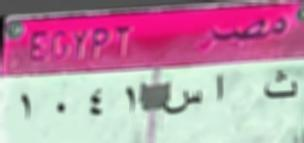0: (52, 98, 70, 118)
1: (121, 80, 139, 121), (17, 89, 35, 125)
4: (89, 86, 104, 118)
alif: (208, 71, 232, 106)
seen: (156, 86, 203, 117)
thaa: (259, 66, 299, 104)
